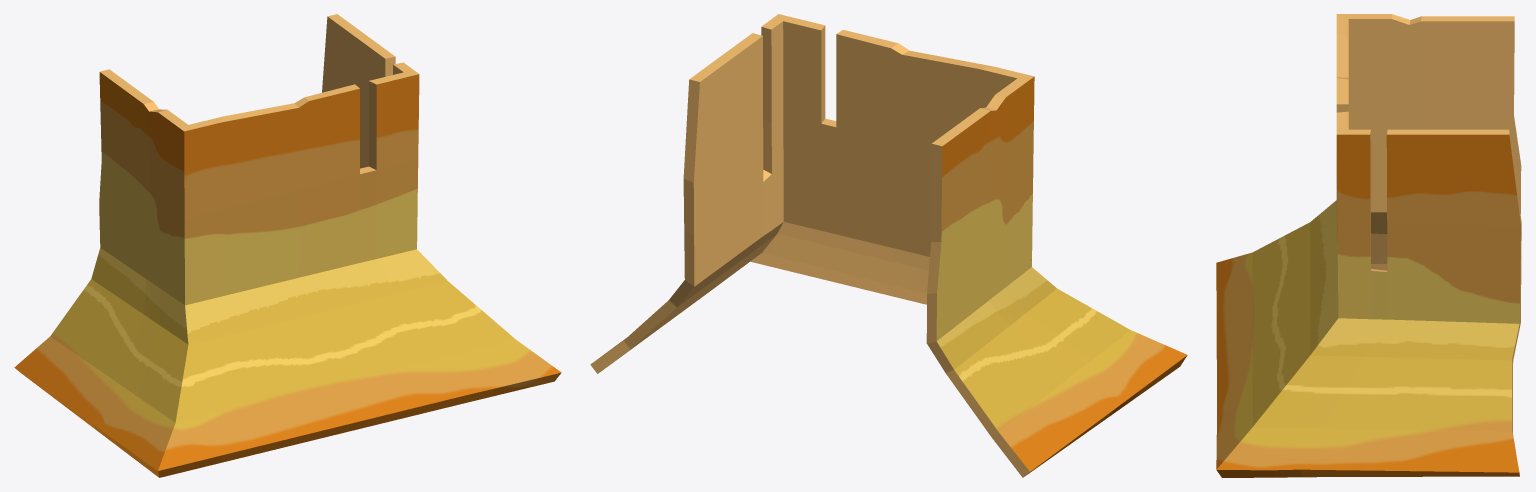
The model's file is MonumentValley_002.fbx.
3 renders of one model, left to right at view 1: azimuth 30°, elevation 25°; view 2: azimuth 150°, elevation 25°; view 3: azimuth 270°, elevation 25°, orthographic. The views are drawn at different scales.
Visible parts, largest first — view 1: Cube; view 2: Cube; view 3: Cube.
Part boxes in pixels (x1,y1,x2,y2): Cube: (14, 14, 561, 477); Cube: (590, 14, 1187, 477); Cube: (1216, 14, 1521, 477).
Size of the model in its own units: 8.17 by 5.54 by 5.08.
2 materials, 1 textured.
